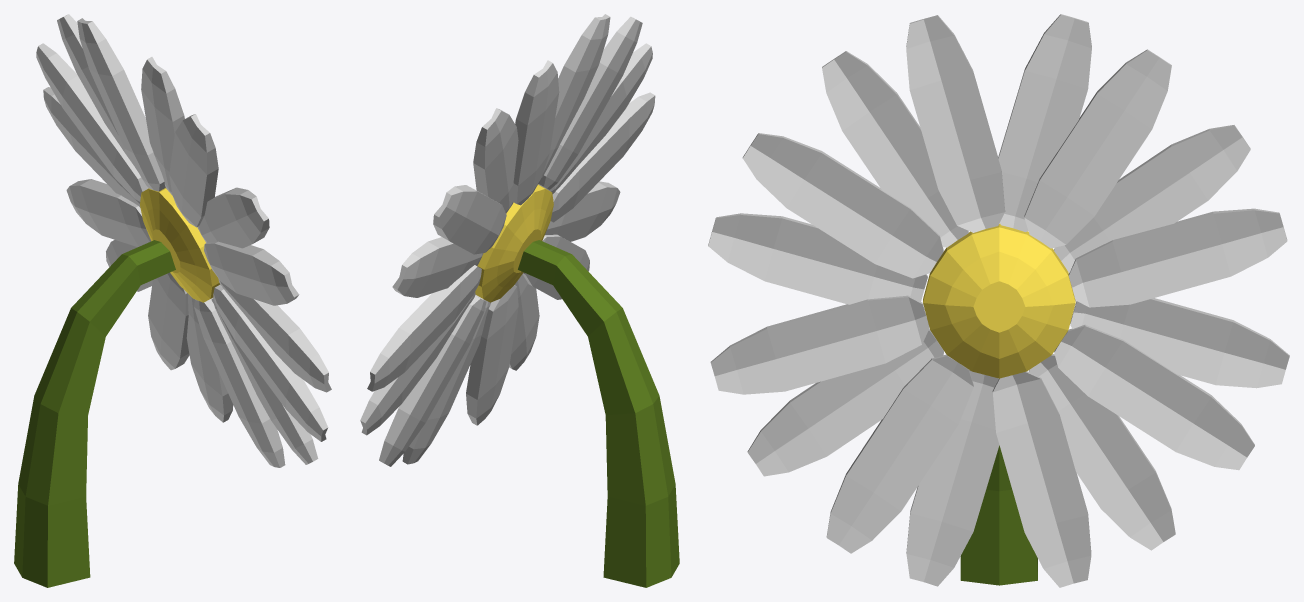
The model's file is daisy_healthy.fbx.
3 views of the same model, side by side, from view 1: azimuth 30°, elevation 25°; view 2: azimuth 150°, elevation 25°; view 3: azimuth 270°, elevation 25° (orthographic). The views are drawn at different scales.
Parts seen in each view (by area): view 1: stem; view 2: stem; view 3: stem.
Boxes of the visible parts, x1,y1,x2,y2 form: stem: (14,14,331,587); stem: (360,14,679,587); stem: (708,14,1289,587).
Bounding box in the file's own units: 606 × 1285 × 1140.
